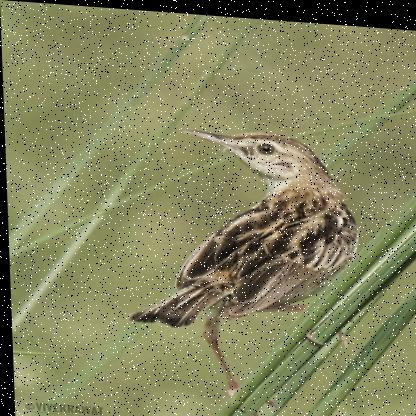Burung: (119, 119, 361, 415)
